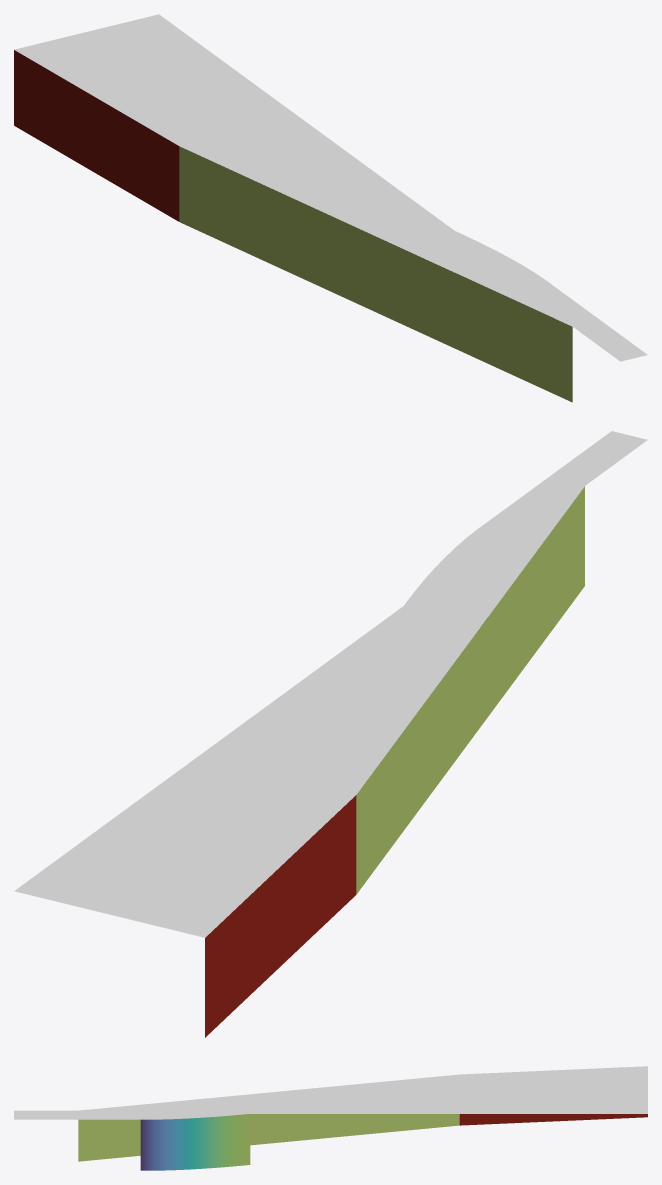
The model's file is scramjet_n2_m100.glb.
The picture shows the model from 3 angles, top to bottom: view 1: azimuth 30°, elevation 25°; view 2: azimuth 150°, elevation 25°; view 3: azimuth 270°, elevation 25°; orthographic projection. The views are drawn at different scales.
Visible parts, largest first — view 1: Renderer Node; view 2: Renderer Node; view 3: Renderer Node.
Boxes of the visible parts, x1,y1,x2,y2 form: Renderer Node: [14, 14, 647, 402]; Renderer Node: [14, 431, 647, 1037]; Renderer Node: [14, 1066, 647, 1170].
Size of the model in its own units: 1.12 by 0.5005 by 5.63.
